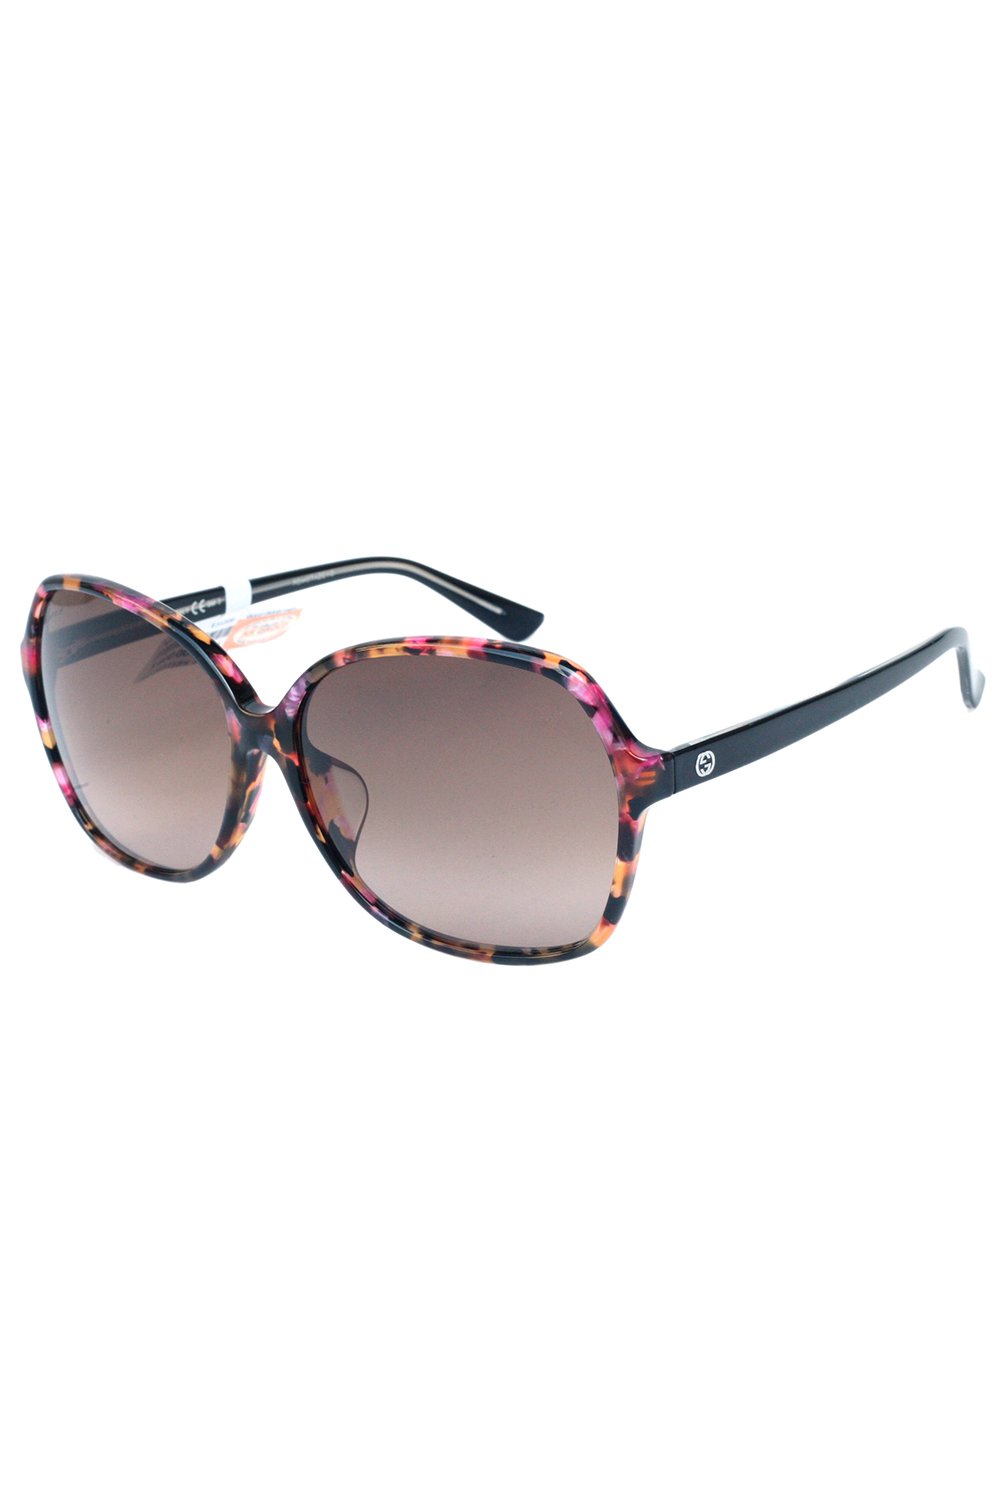Gucci: (684, 743, 728, 781)
